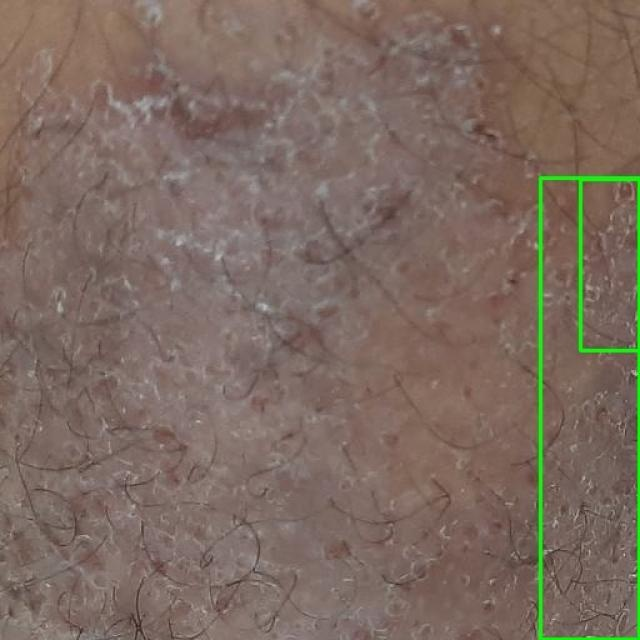Eczema: (540, 178, 639, 639), (580, 179, 639, 350)
